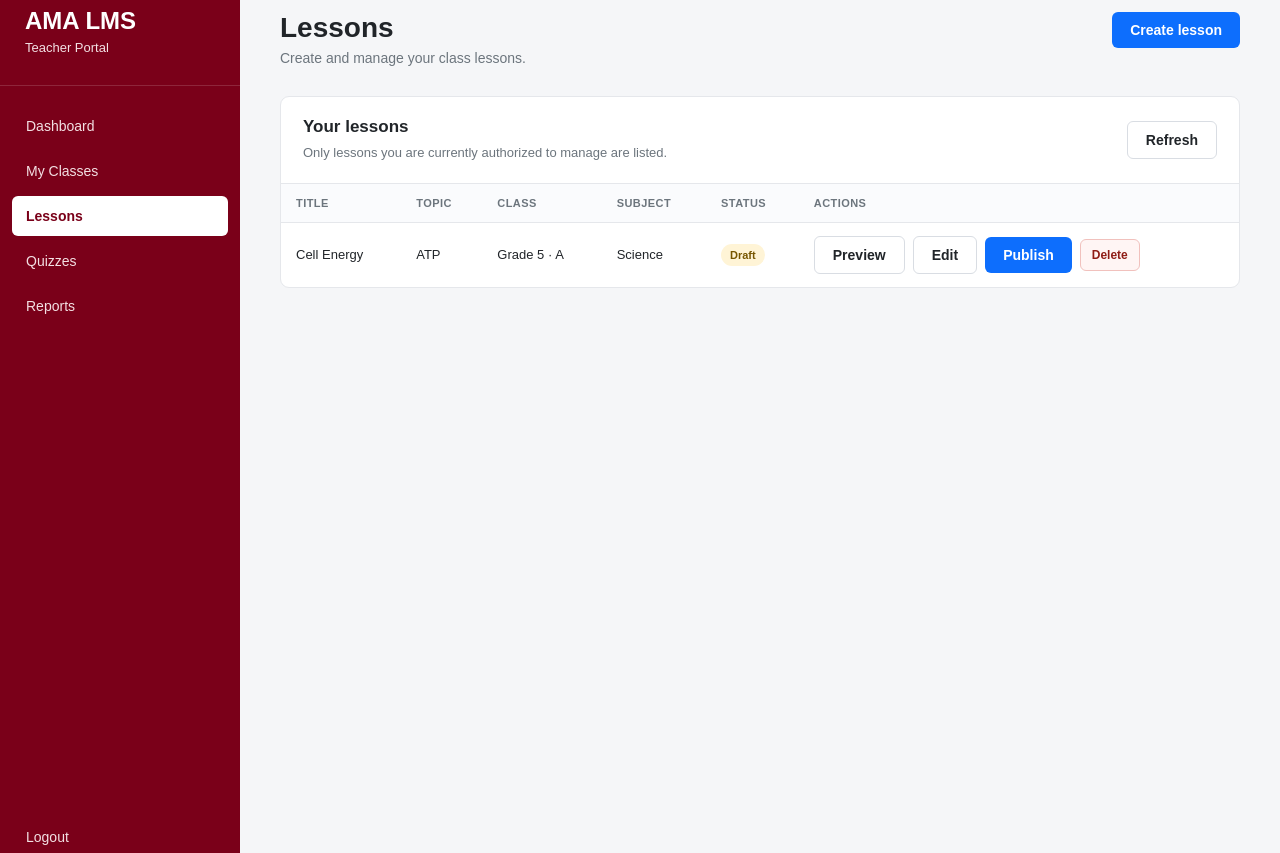
it: teacher lesson management › adds, removes, and reorders blocks
Expected: the heading "Your lessons" is shown, [303,117,408,136]
Click the button "Edit": (945, 254) [913,236,977,274]
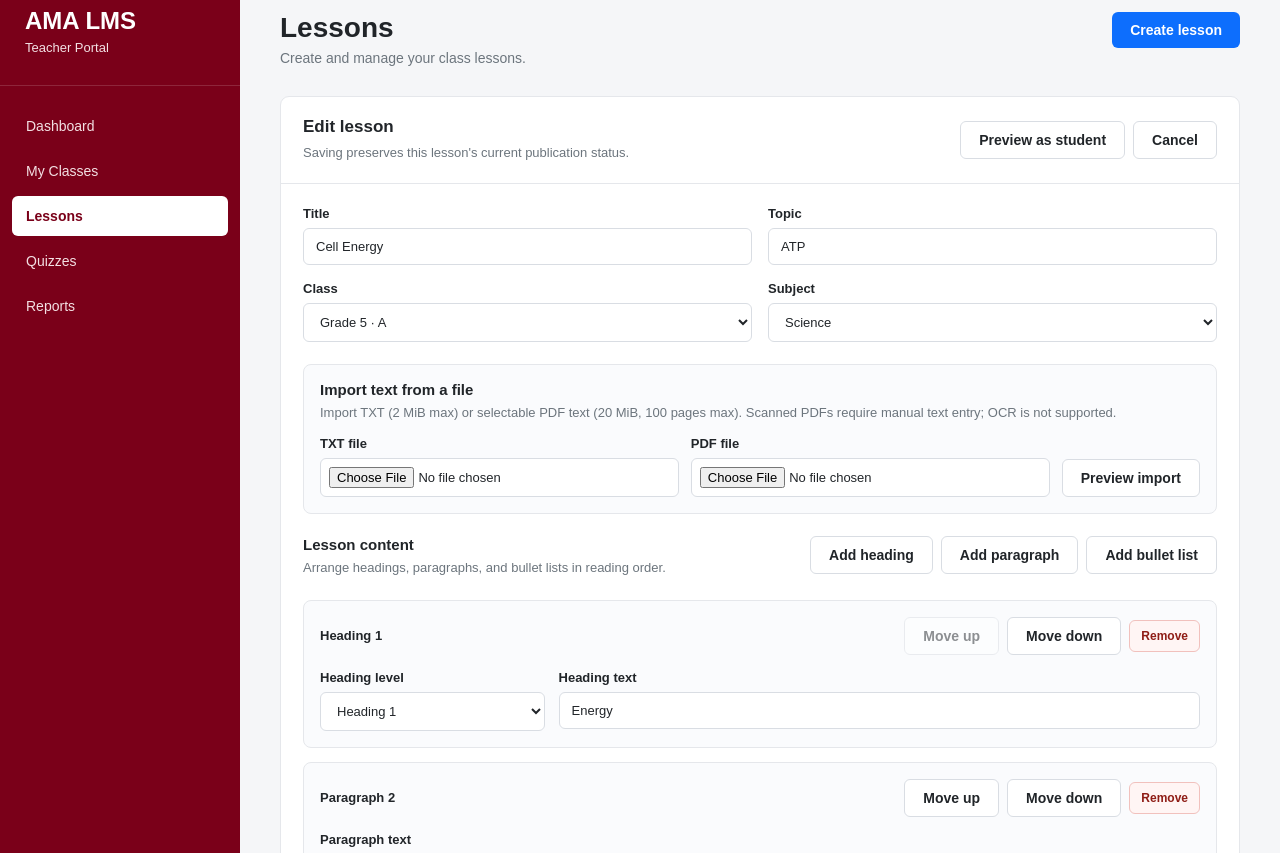
Click the button "Add heading": (872, 555) [810,536,933,574]
(page scrolled)
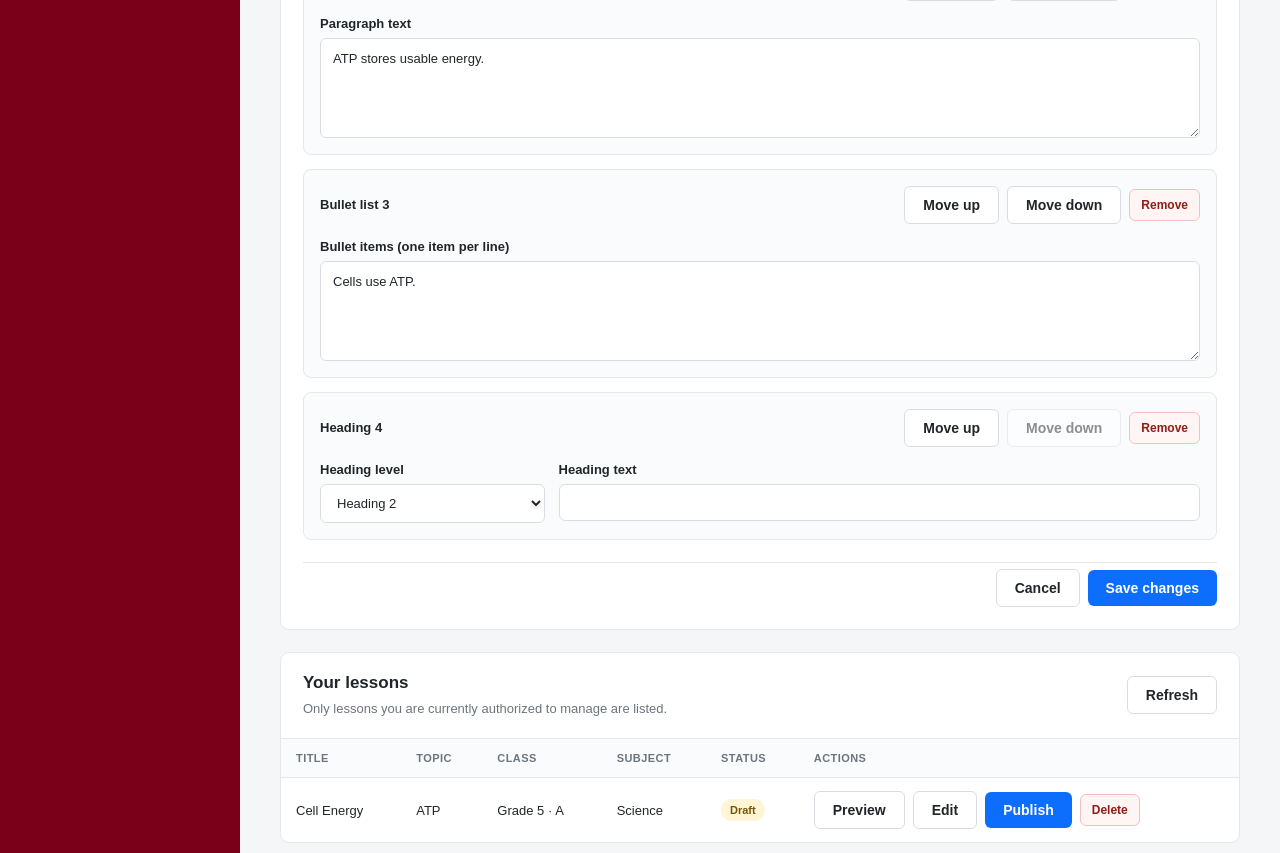
Expected: the field named "Block 4 heading text" is shown, [558,484,1200,520]
Click the button with aria-label "Remove block 4": (1165, 428) [1129,412,1200,444]
(page scrolled)
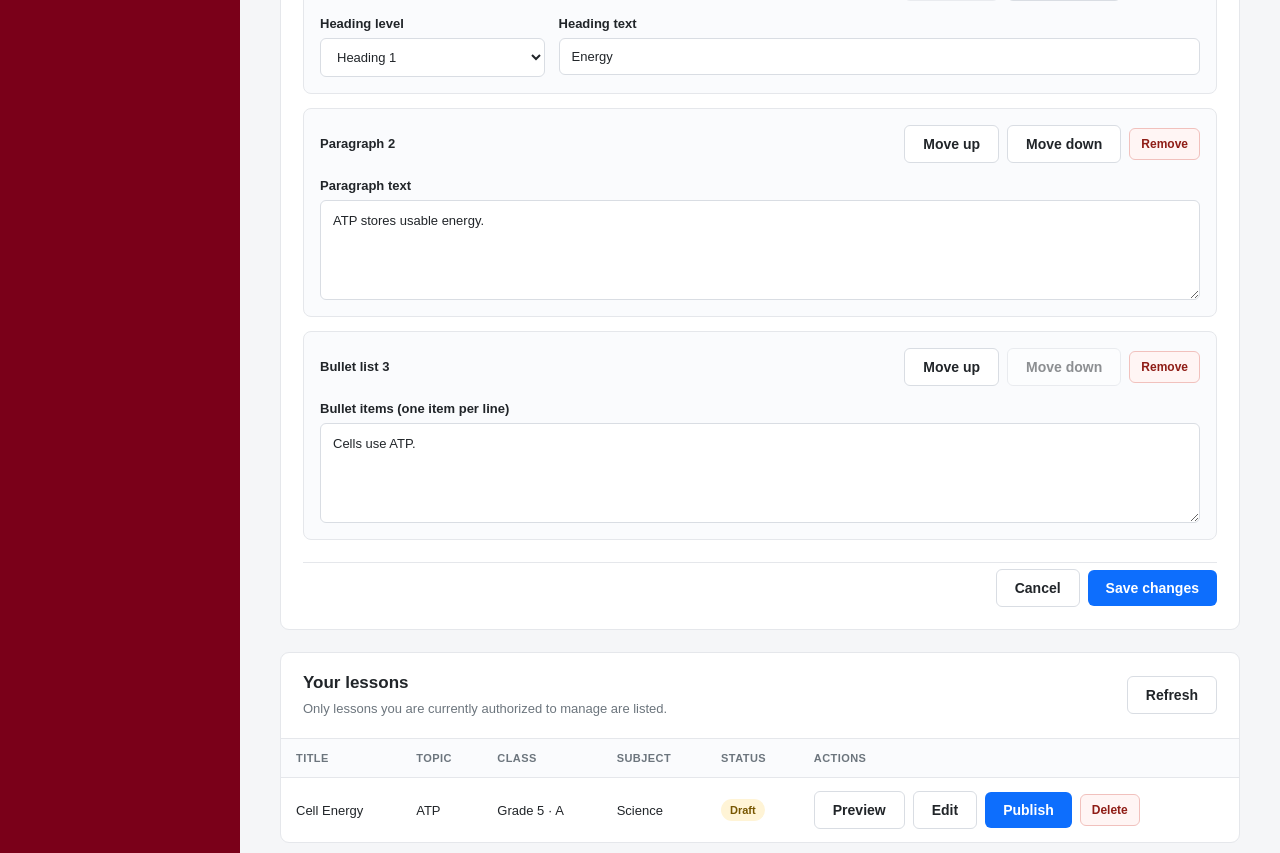
Click the button with aria-label "Move block 2 up": (952, 144) [904,124,999,162]
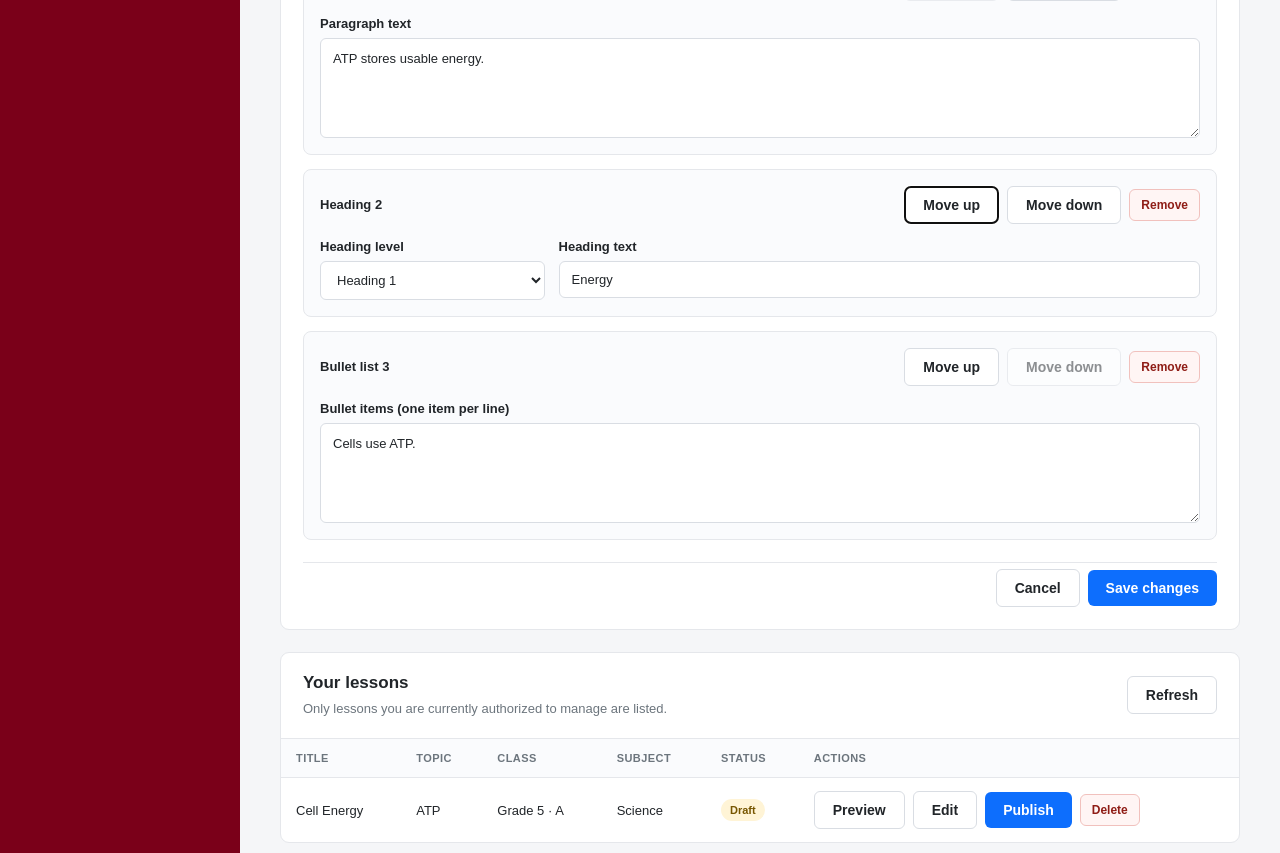
Expected: the text box named "Block 1 paragraph text" is shown, [320,38,1200,138]
Expected: the field named "Block 2 heading text" is shown, [558,260,1200,298]
